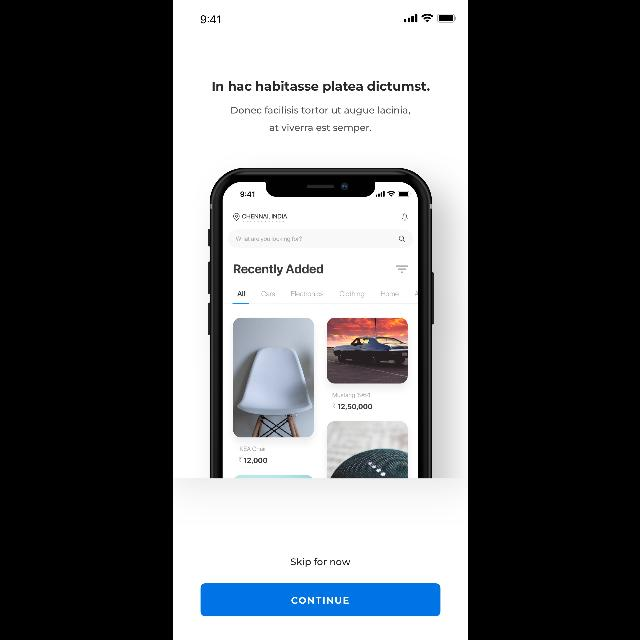image: (206, 167, 434, 478)
text: (230, 107, 410, 133), (212, 80, 428, 94), (290, 558, 350, 568)
textbutton: (200, 584, 440, 616)
uppertaskbar: (200, 14, 456, 24)
